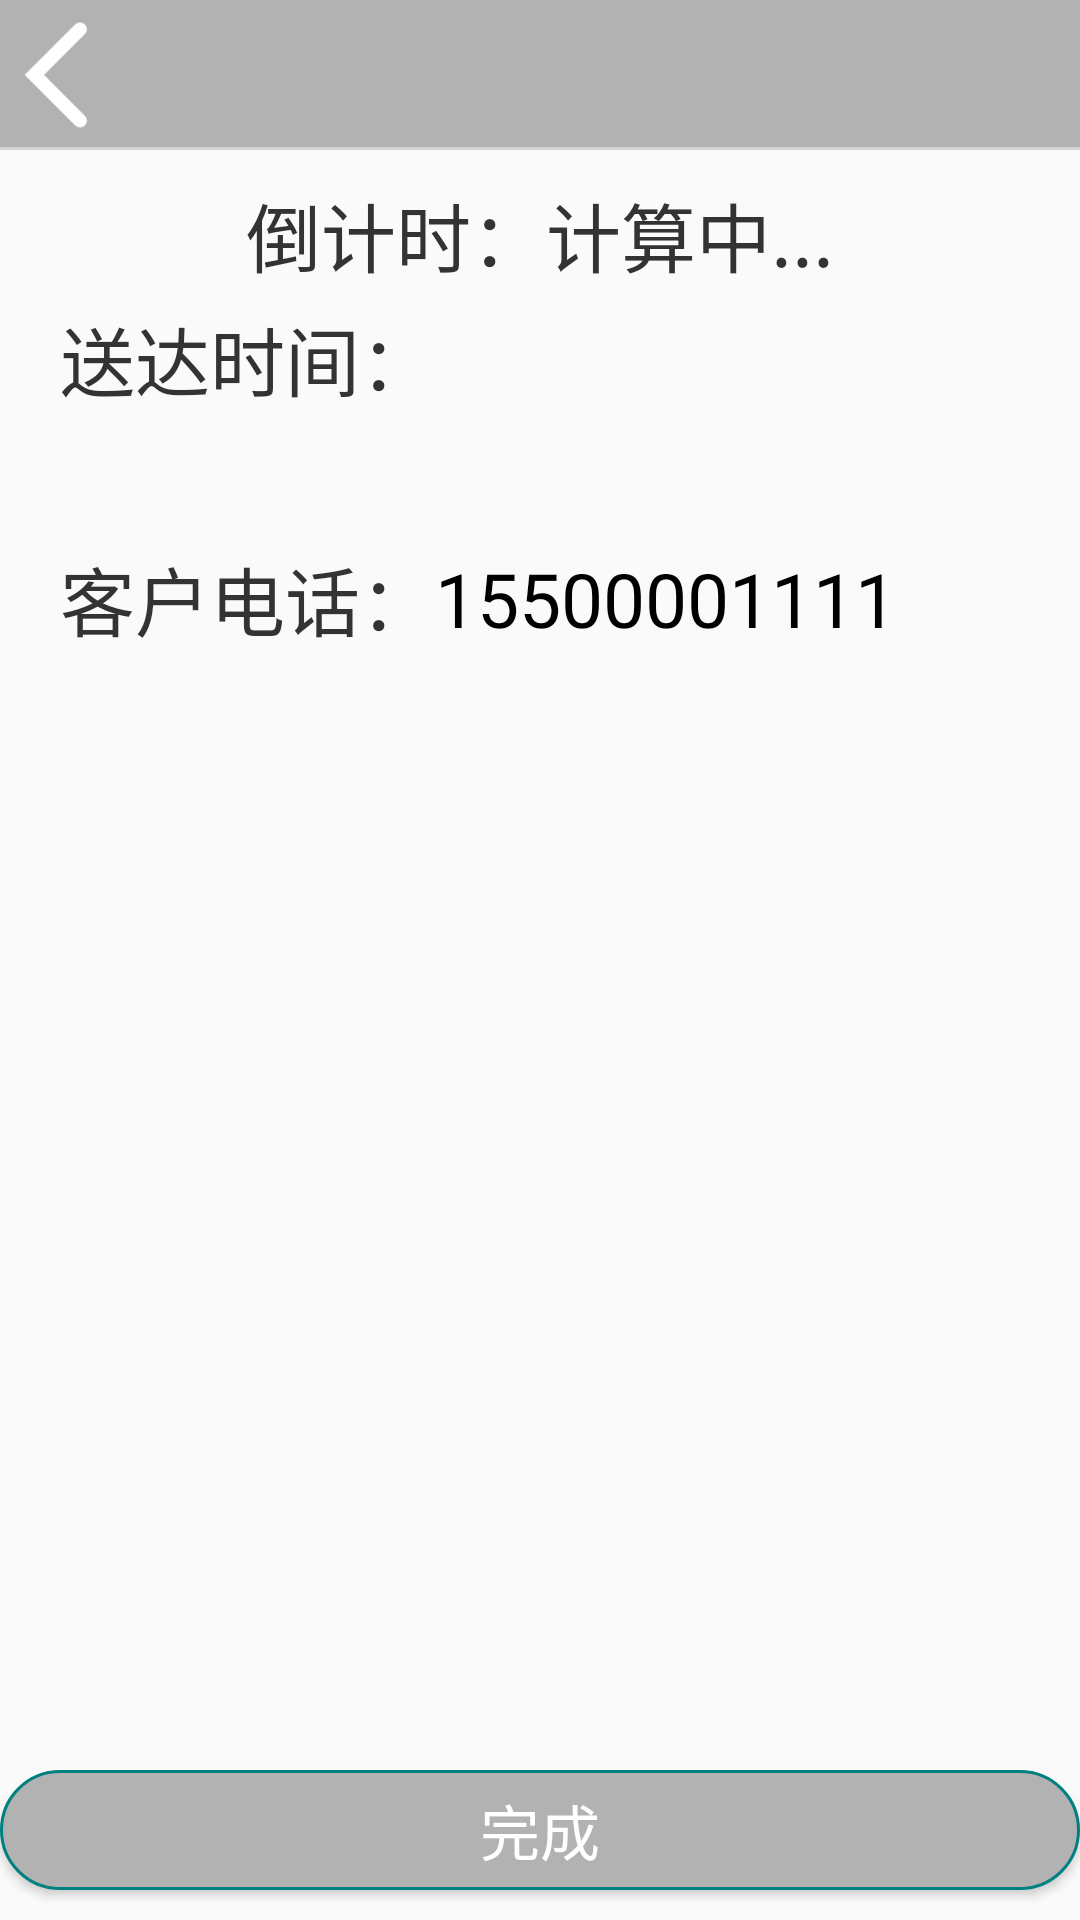

Icons on this 1080x1920 Android screen, each with the point to tap as [x,y]:
left: [56,75]
